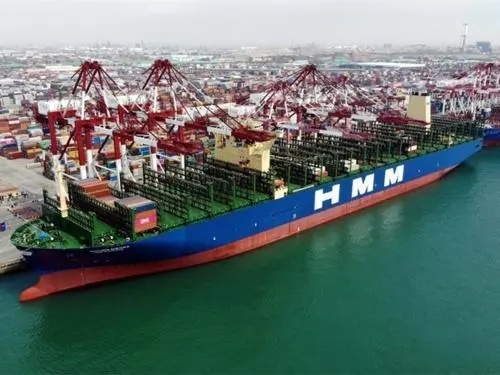Cargoship: (11, 101, 485, 304)
